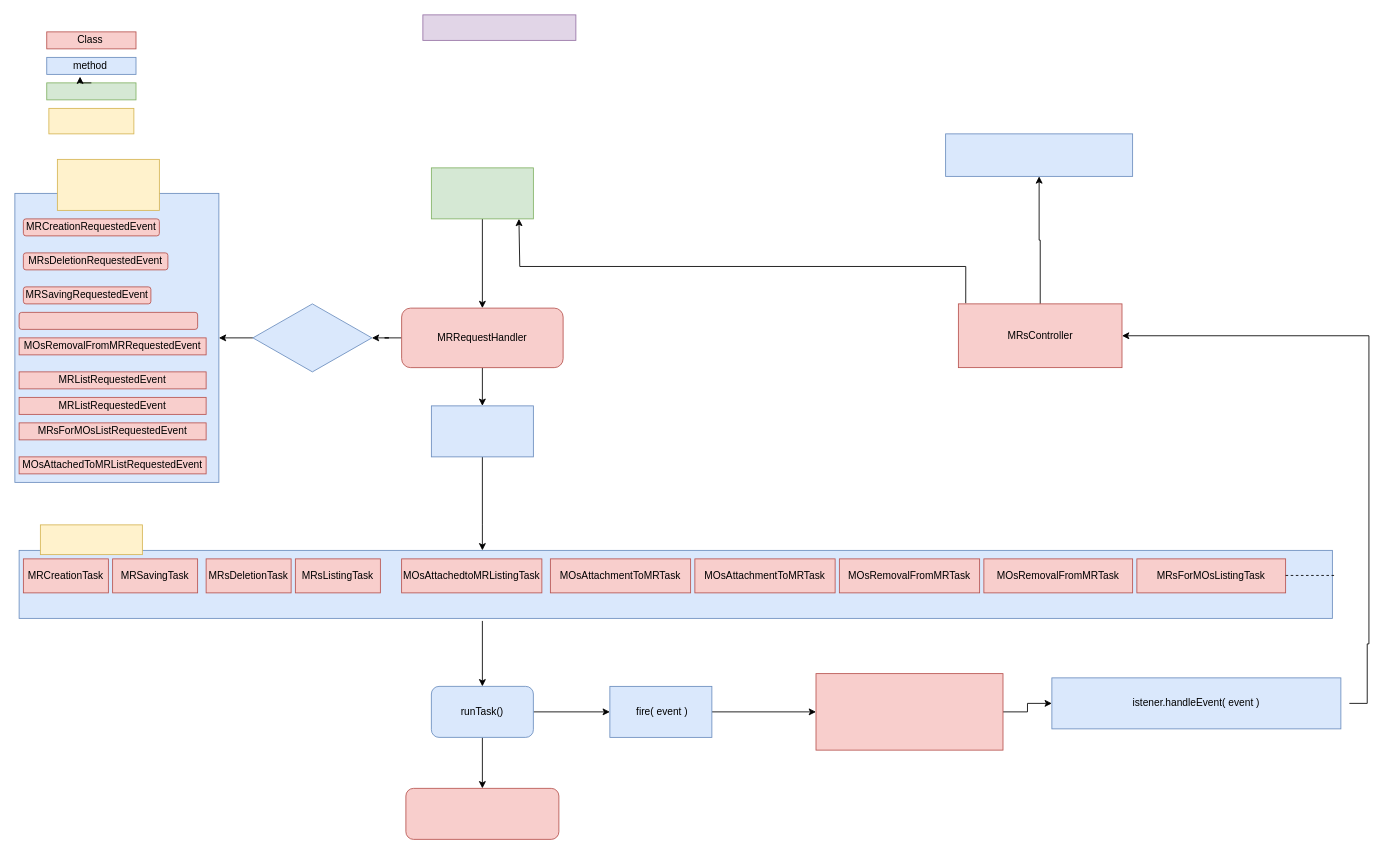
This 1391x854 diagram has some shape labels left out. Here are the shapes that lost their labels. From the top down, the centre of each, then its label:
At (x=499, y=27): "Maintenance Region".
At (x=91, y=91): "UI".
At (x=91, y=121): "package".
At (x=1039, y=154): "handleEvent( Event event ){ populate( e.getMaintenanceRegions()}".
At (x=108, y=184): "Event".
At (x=482, y=193): "AC UI".
At (x=108, y=320): "MOsAttachmentToMRRequestedEvent".
At (x=312, y=337): "Handle Event Register user event".
At (x=482, y=431): "myTaskMgr.runTask( type of event , true );".
At (x=91, y=539): "Task".
At (x=909, y=711): "EventManagerImpl fire( final EventListener sender, final Event event )".
At (x=482, y=813): "EJB MaintenanceRegionAdmin".
